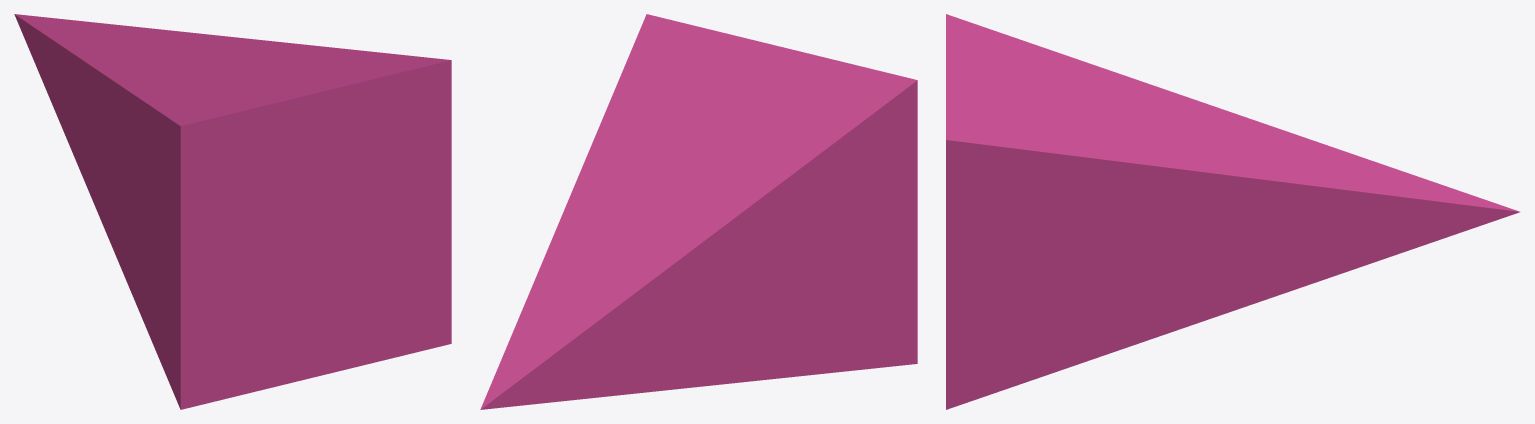
Rendered from pointer.dae.
3 renders of one model, left to right at view 1: azimuth 30°, elevation 25°; view 2: azimuth 150°, elevation 25°; view 3: azimuth 270°, elevation 25°, orthographic. The views are drawn at different scales.
Parts seen in each view (by area): view 1: Cube; view 2: Cube; view 3: Cube.
Part boxes in pixels (box(x1,y1,x2,y2)): Cube: box(14, 14, 451, 409); Cube: box(480, 14, 917, 409); Cube: box(946, 14, 1519, 409).
Bounding box in the file's own units: 1.04 × 2 × 1.04.
